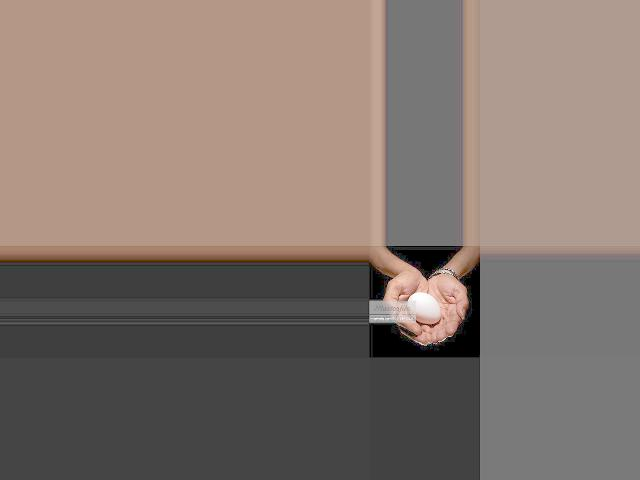egg: (408, 293, 441, 325)
